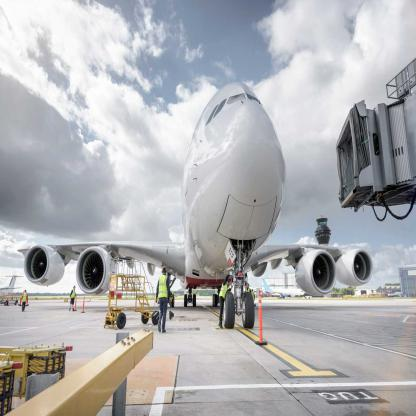CIV_Plane: (13, 79, 380, 330)
